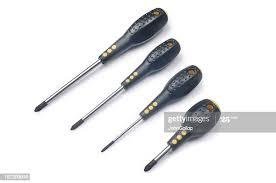screwdriver: (32, 6, 168, 113), (68, 36, 181, 131), (99, 63, 202, 153), (142, 97, 222, 172)
